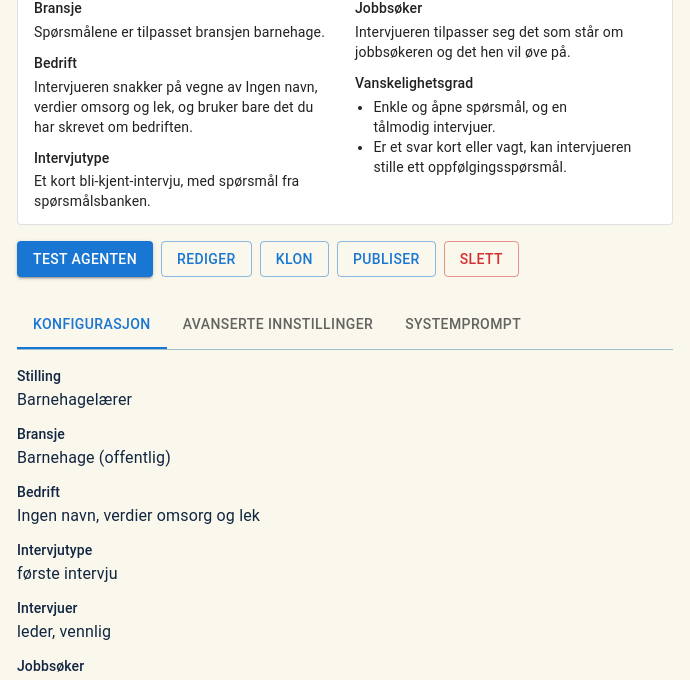
it: AgentDetail › shows the advanced settings and the system prompt on their own tabs
(page scrolled)
Click the tab "Avanserte innstillinger": (278, 325) 167,301 -> 389,349
(page scrolled)
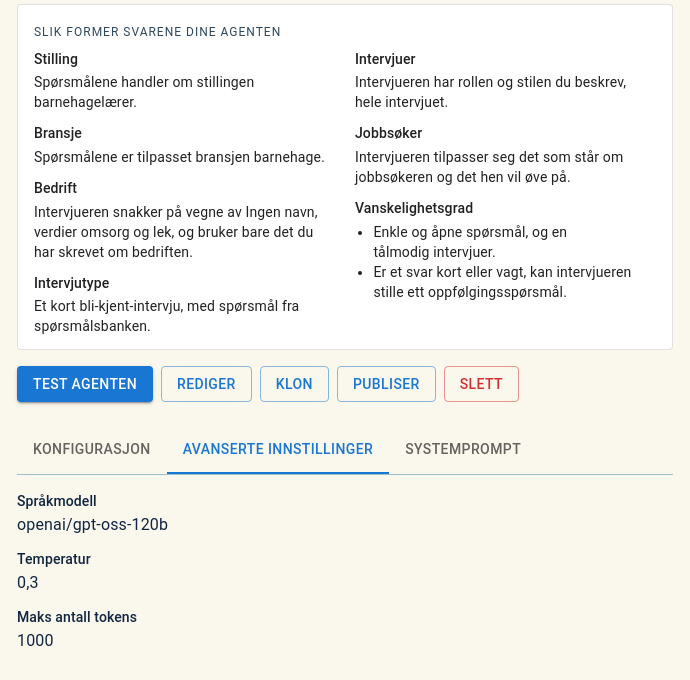
Now the text "openai/gpt-oss-120b" is shown, box 17,515 -> 168,534
Now the text "0,3" is shown, box 17,573 -> 39,592
Click the tab "Systemprompt": (463, 450) 389,426 -> 537,474
(page scrolled)
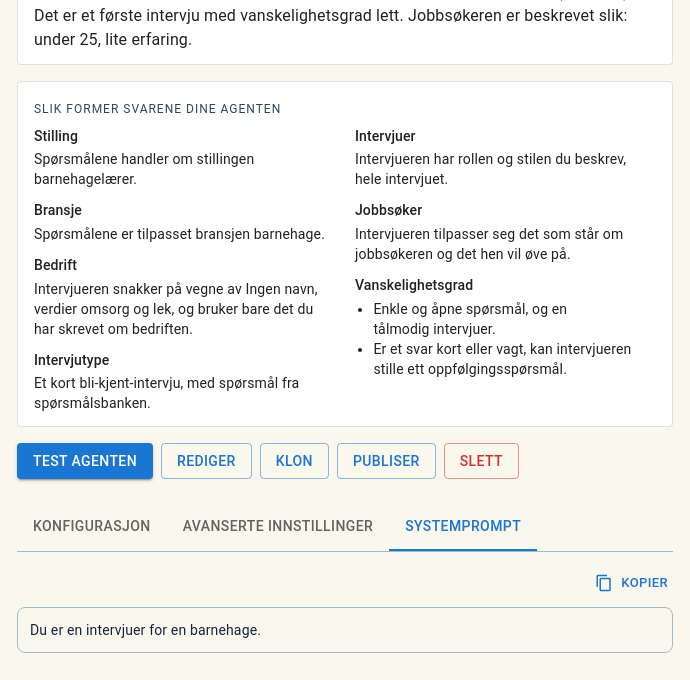
Now the text "Du er en intervjuer for en barnehage." is shown, box 30,622 -> 261,638
Now the text "Språkmodell" is gone
